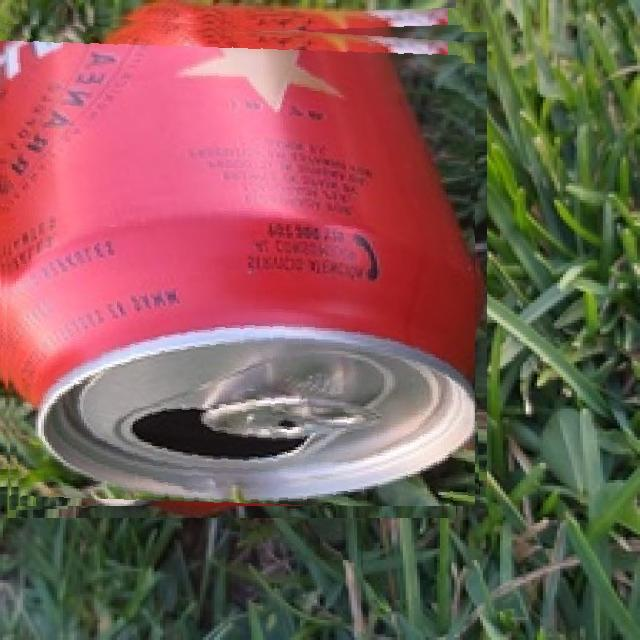recyclable: (0, 11, 475, 506)
